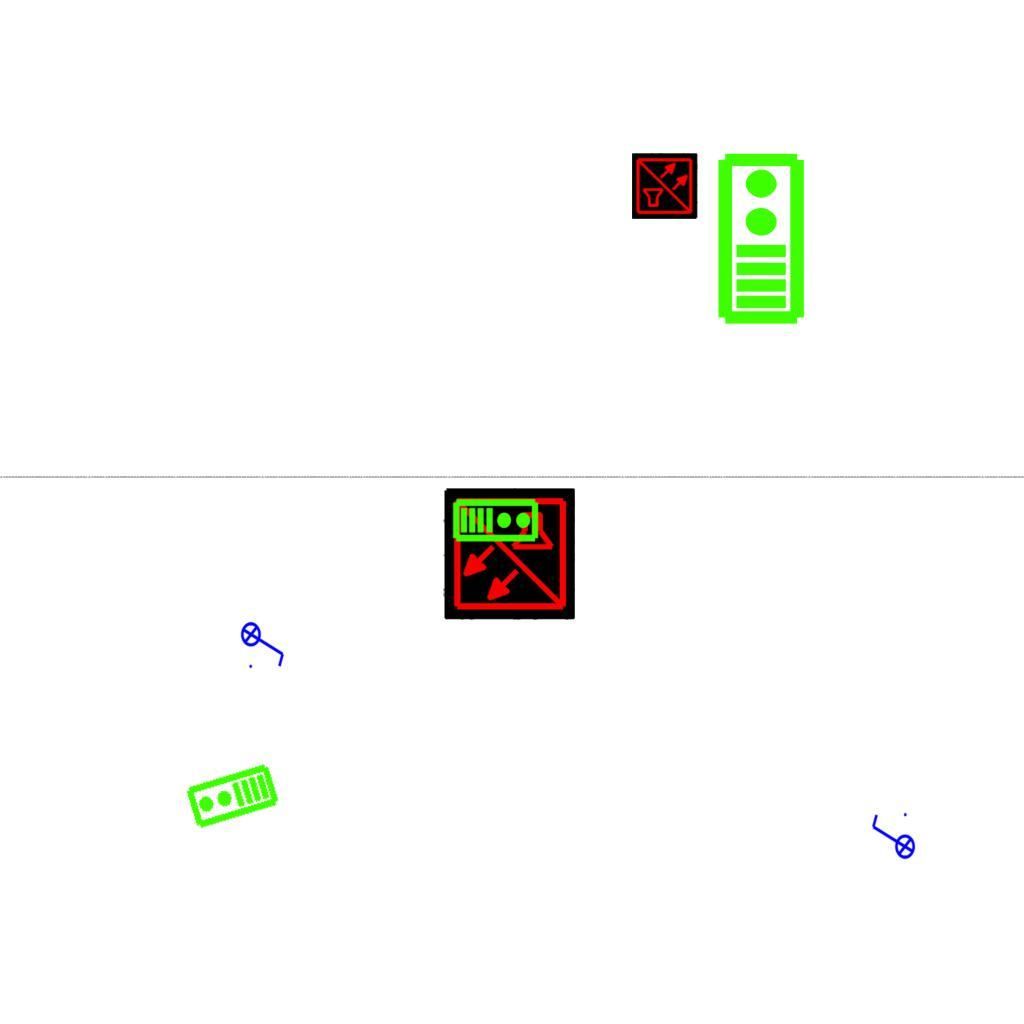Ausschalter_beleuchtet: (868, 810, 916, 866), (240, 615, 288, 671)
Gegensprechanlage_mit_Video: (712, 150, 807, 326), (183, 761, 282, 833), (452, 496, 540, 543)
OKW_Multisensormelder_(Kombination_optischer_Rauch-Kahlenmonoxid_Waerme-Melder): (443, 488, 575, 620), (632, 153, 698, 219)
